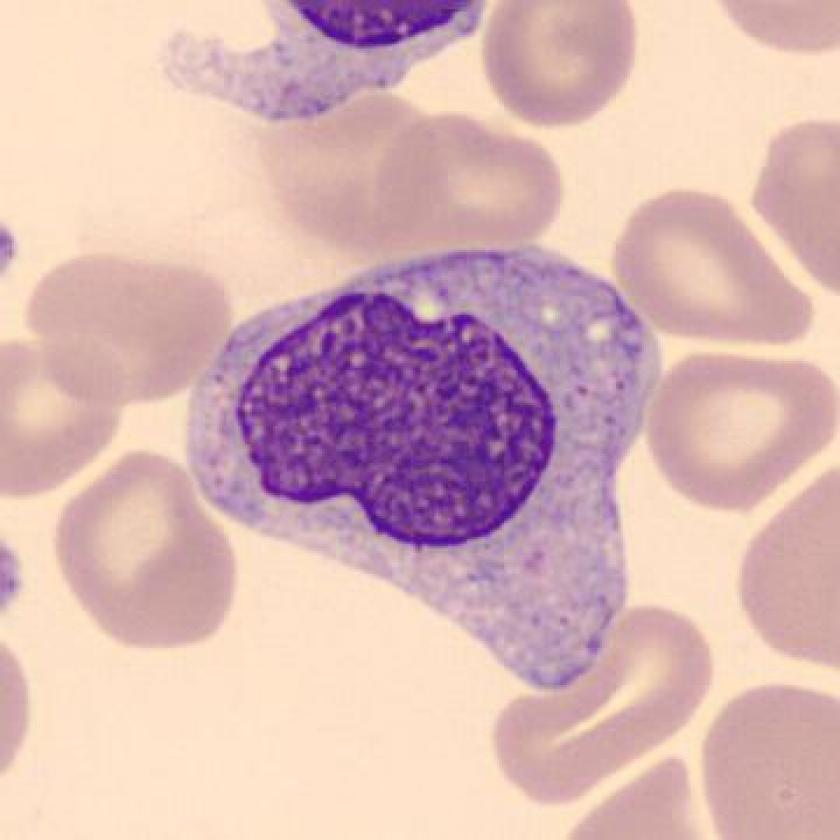monocyte: (169, 237, 678, 705)
